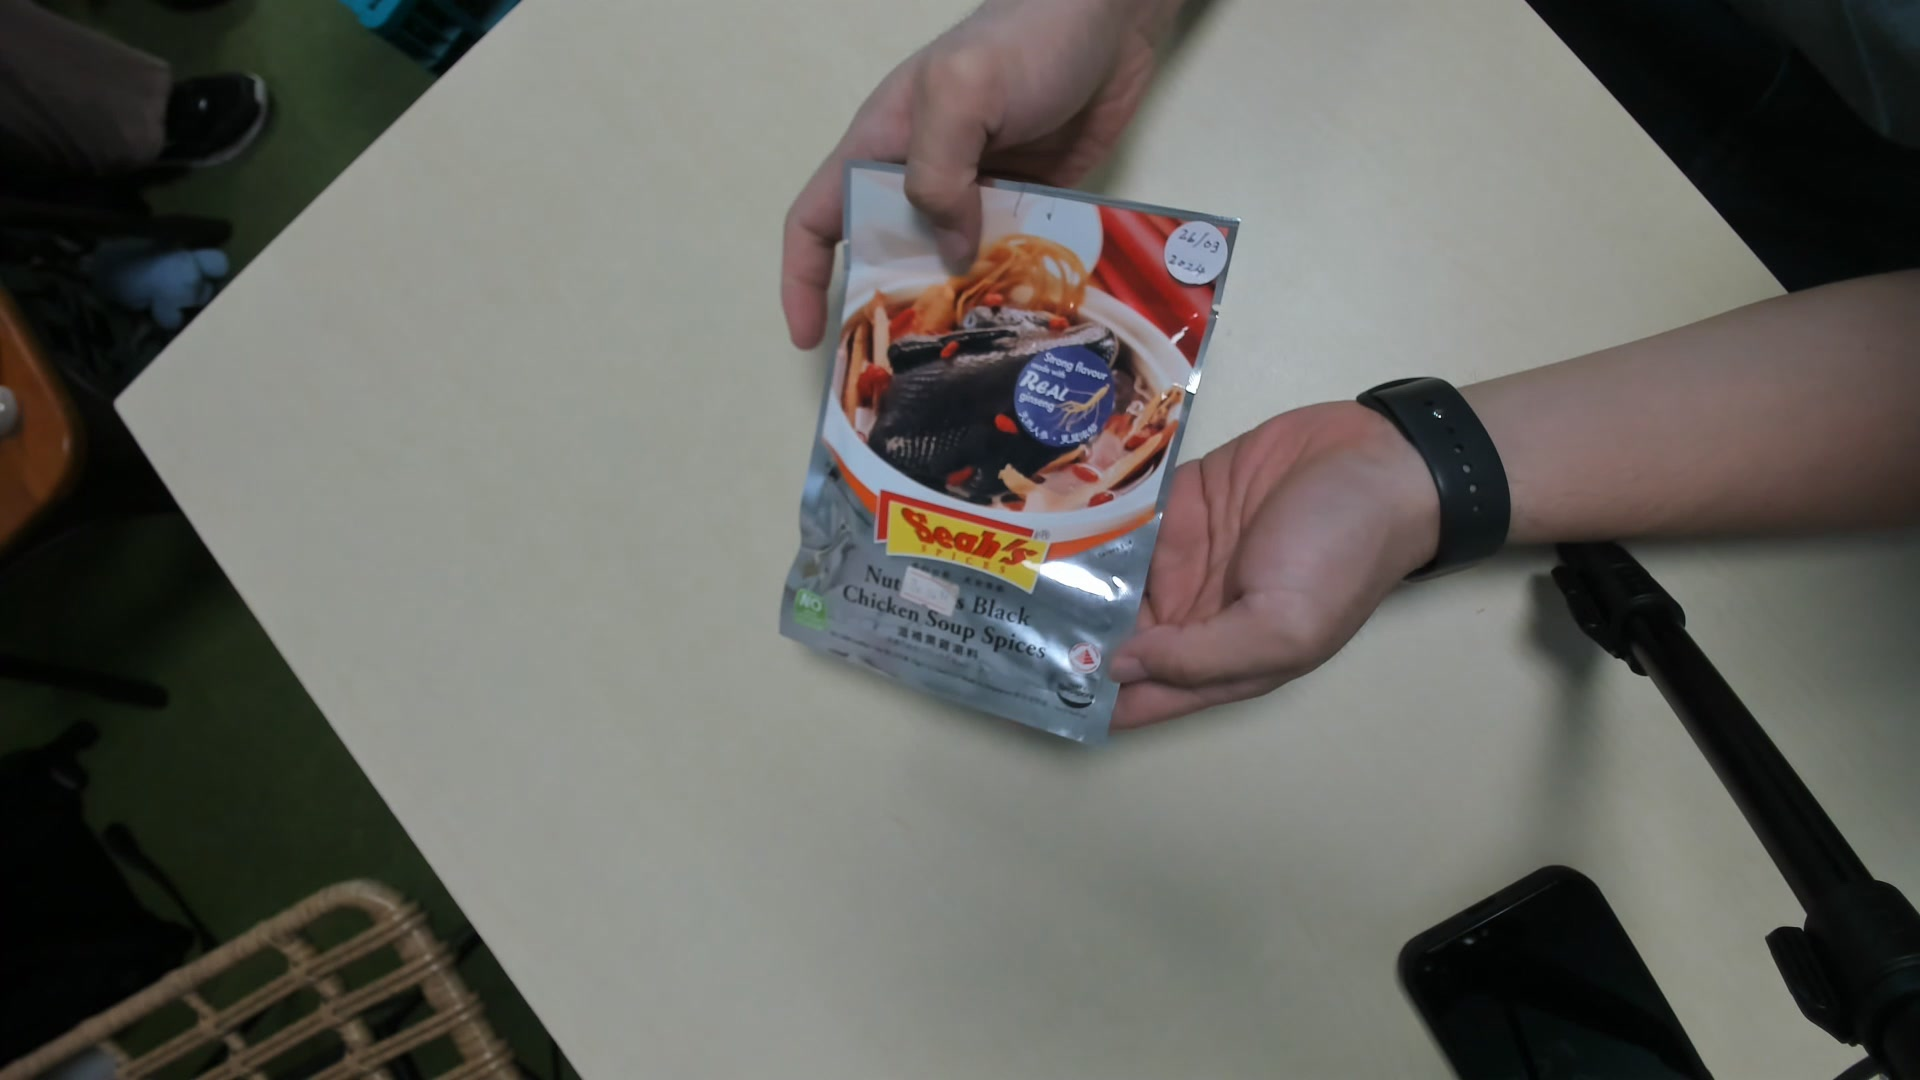OtherSauceDressing_0-99g_NonHalal_NonHealthy: (771, 164, 1238, 753)
